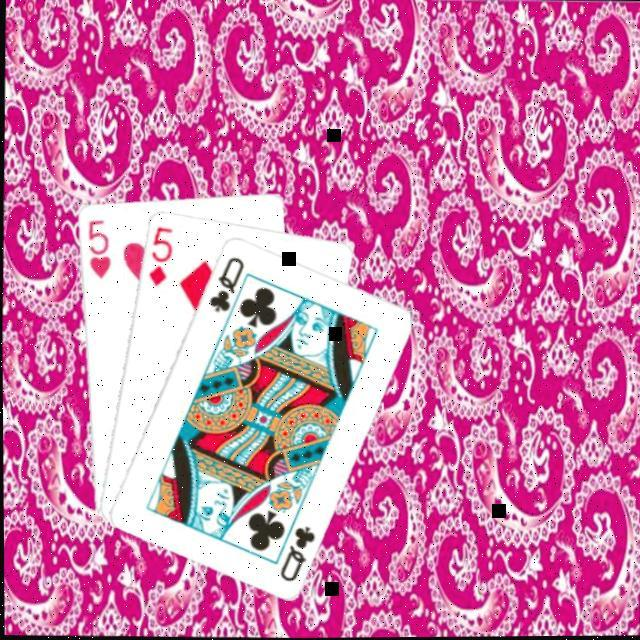5D: (143, 220, 174, 288)
5H: (82, 215, 111, 279)
QC: (273, 521, 316, 584), (203, 252, 246, 314)
